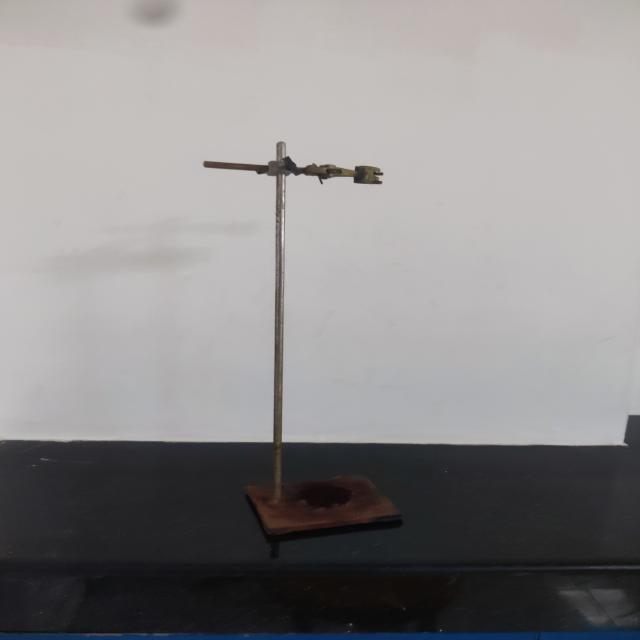Burette_Stands: (180, 124, 420, 561)
